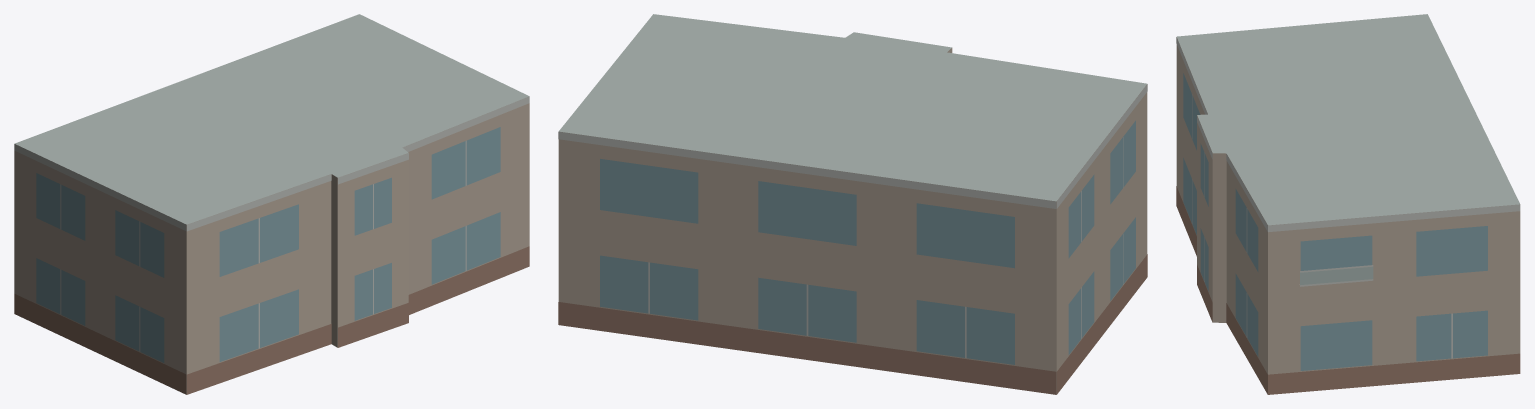
File: survey-upis-32932440.glb
The picture shows the model from 3 angles, left to right: view 1: azimuth 30°, elevation 25°; view 2: azimuth 150°, elevation 25°; view 3: azimuth 270°, elevation 25°; orthographic projection. The views are drawn at different scales.
Visible parts, largest first — view 1: survey-upis-32932440.tmp; view 2: survey-upis-32932440.tmp; view 3: survey-upis-32932440.tmp.
Boxes of the visible parts, x1=… form: survey-upis-32932440.tmp: x1=14, y1=14, x2=529, y2=394; survey-upis-32932440.tmp: x1=558, y1=14, x2=1147, y2=394; survey-upis-32932440.tmp: x1=1176, y1=14, x2=1520, y2=394.
Size of the model in its own units: 16.33 by 6.1 by 11.23.
